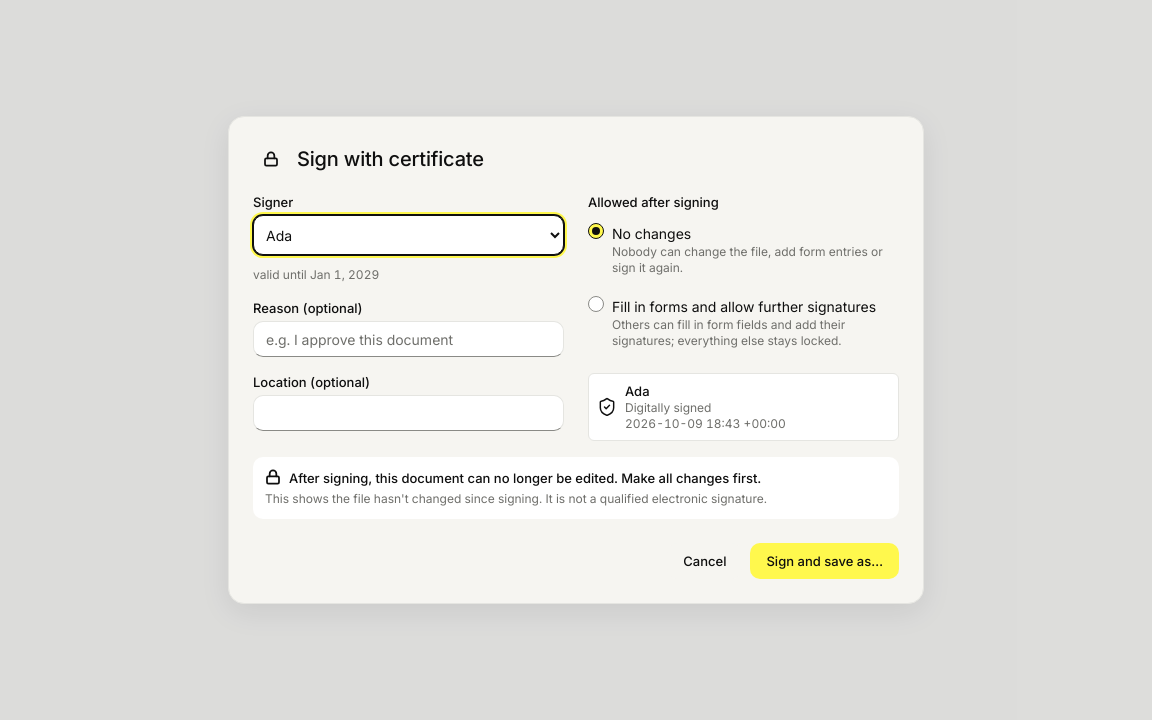
Test case: the signing flow (DESIGN 3.8 S3) › shows the backend refusal signEncrypted in the sheet and offers to try again
Click the button "Sign and save as…" at (825, 561), box x1=750 y1=543 x2=899 y2=579
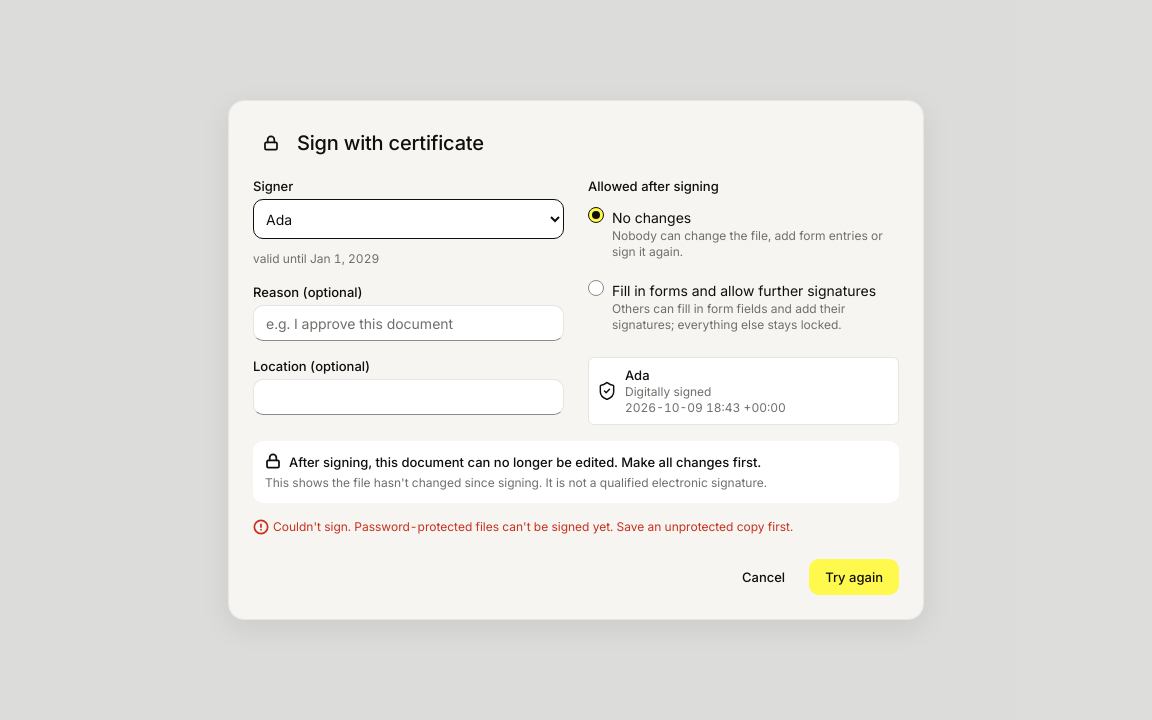
Expected: the message shows "Password-protected files", x1=273 y1=519 x2=793 y2=534
Expected: the button "Try again" is shown, x1=809 y1=559 x2=899 y2=595
